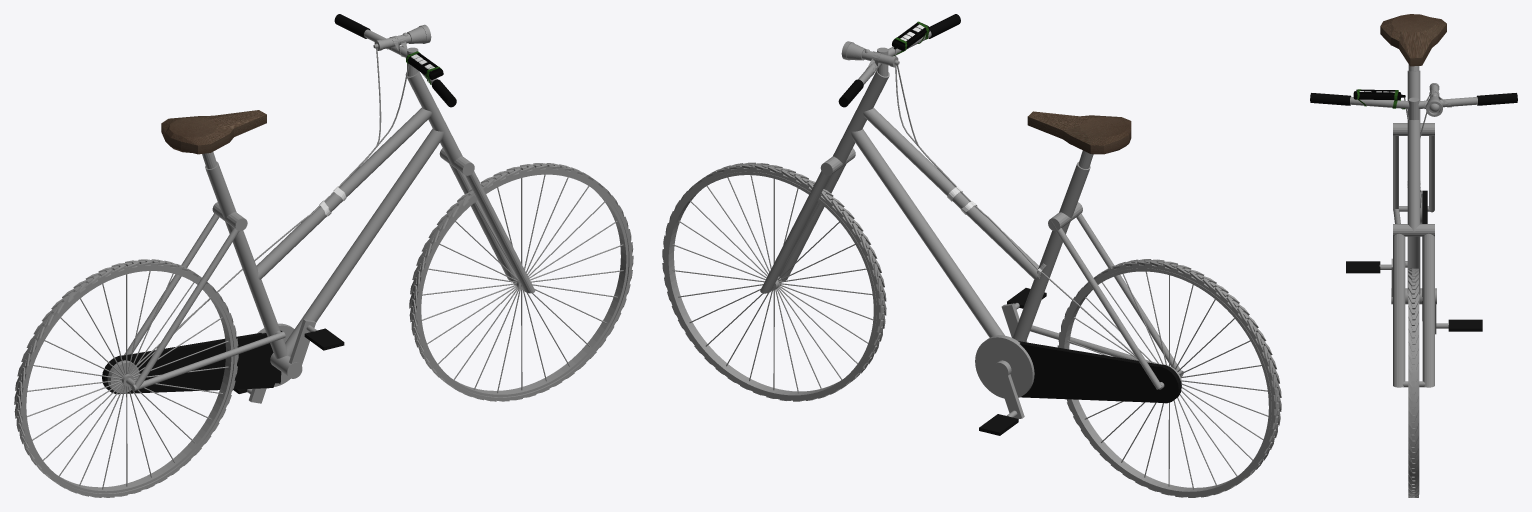
File: bikefertig2.FBX
The picture shows the model from 3 angles, left to right: view 1: azimuth 30°, elevation 25°; view 2: azimuth 150°, elevation 25°; view 3: azimuth 270°, elevation 25°; orthographic projection. The views are drawn at different scales.
Parts seen in each view (by area): view 1: fahrrad; view 2: fahrrad; view 3: fahrrad, KM-zähler.
Boxes of the visible parts, x1,y1,x2,y2 form: fahrrad: (14, 14, 633, 497); fahrrad: (662, 14, 1281, 497); fahrrad: (1310, 14, 1517, 497); KM-zähler: (1353, 89, 1405, 100).
Size of the model in its own units: 302 by 180 by 97.38.
Materials: 7 (1 with a texture image).
